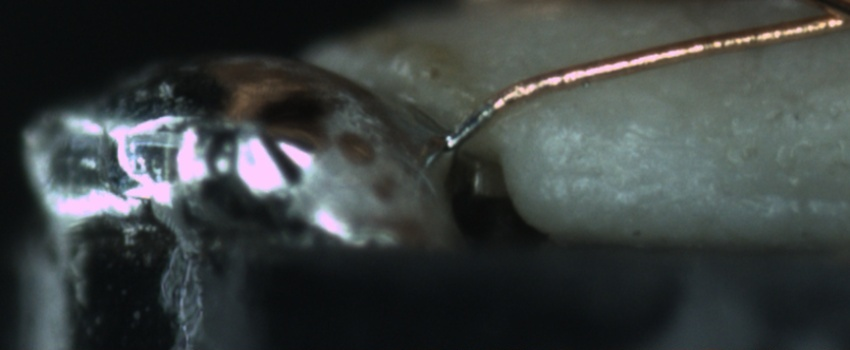CL: (771, 0, 850, 41)
TS: (442, 106, 494, 154)
